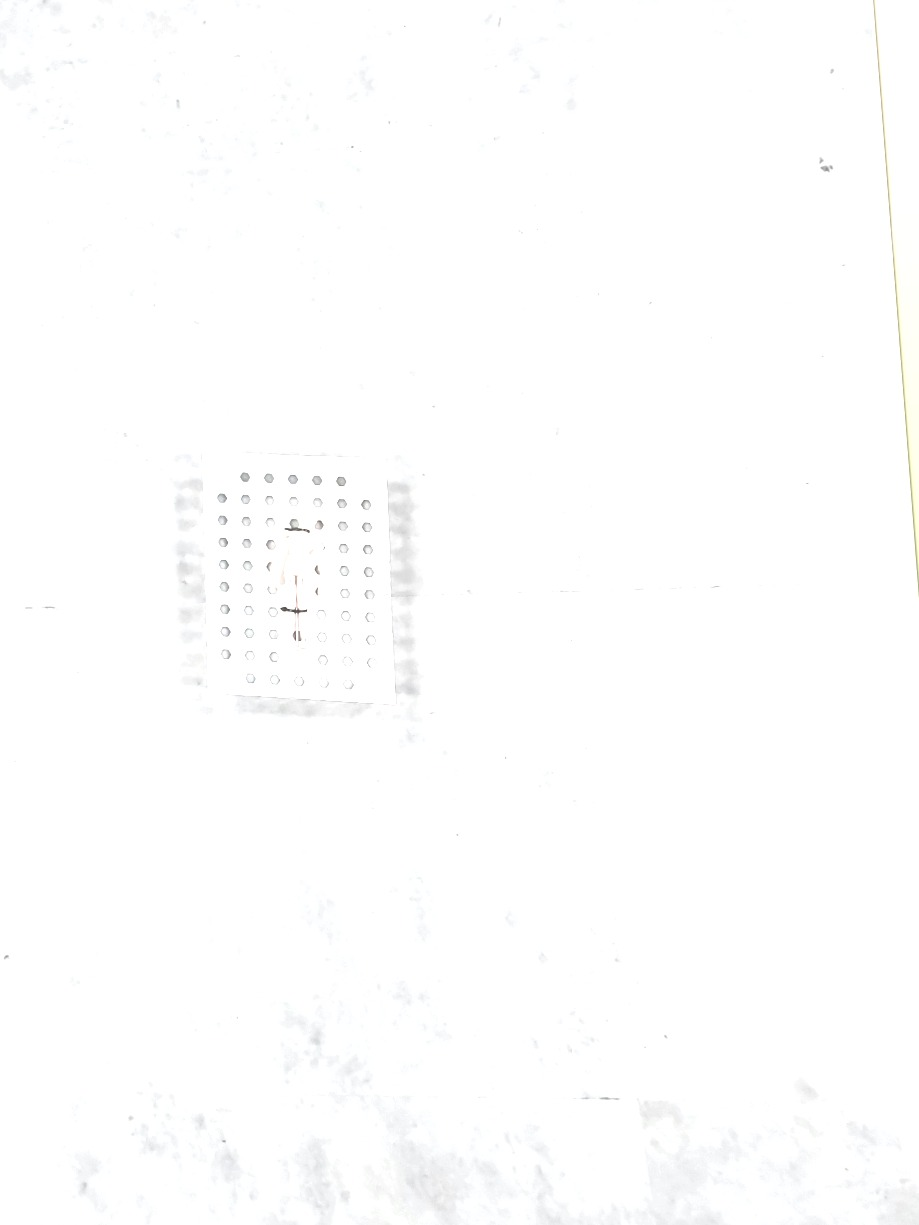basket: (193, 444, 403, 713)
mannequin: (268, 513, 324, 666)
